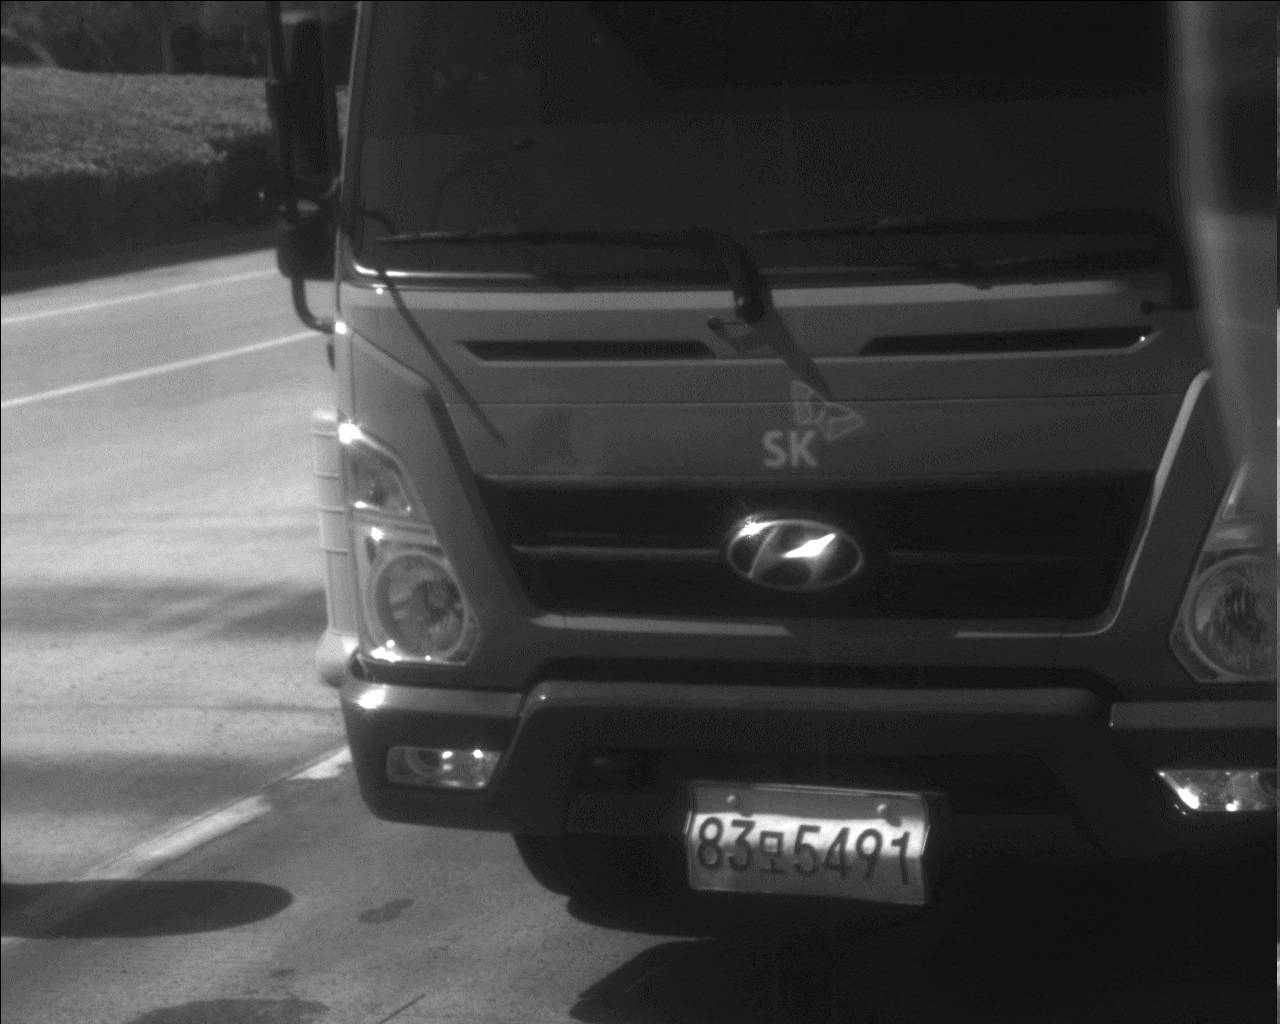car: (257, 1, 1275, 917)
plate: (678, 775, 942, 910)
